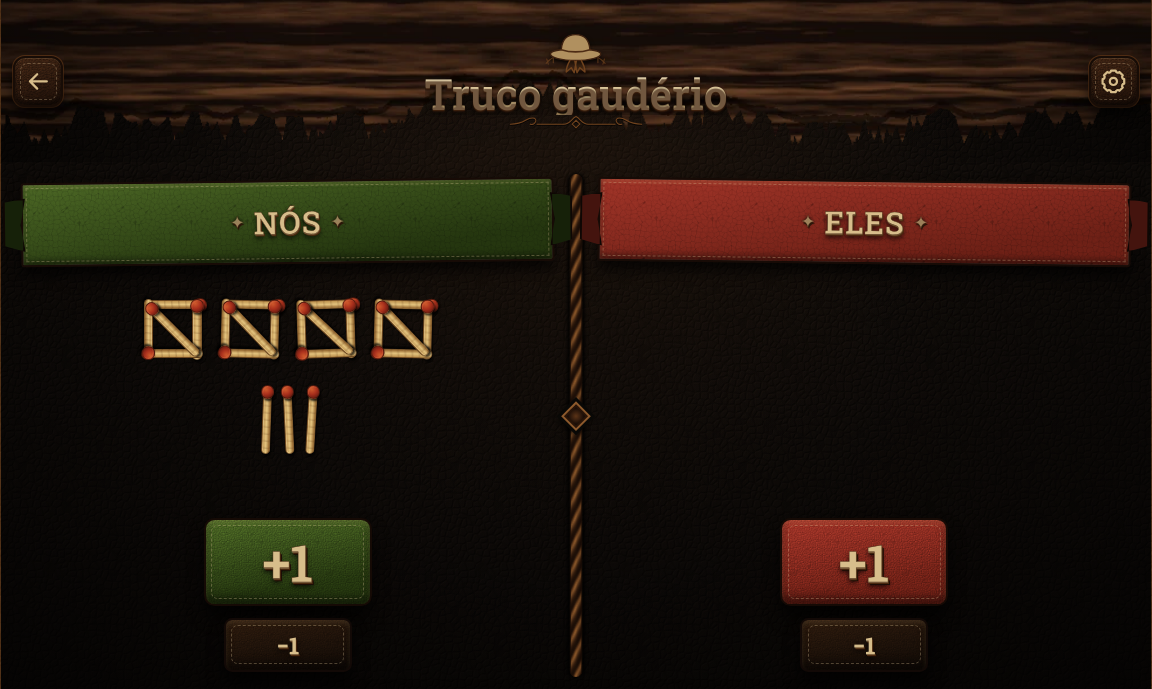
Test case: truco gaudério screens › disables both increments at 24 while keeping correction live and does not finish
The image size is (1152, 689).
Step 1. Click the button named "Adicionar 1 ponto para Nós" → (288, 562), box [204,518,372,606]
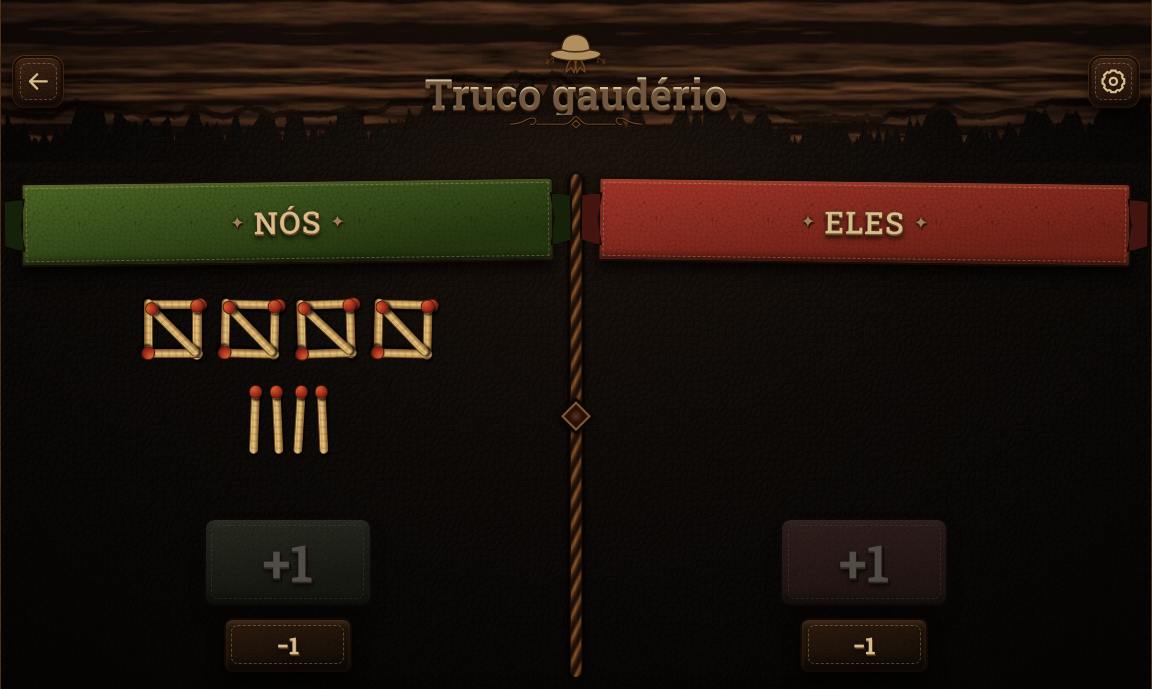
expect the element named "Nós: 24 pontos" is shown: met, box [144,298,434,454]
expect the button named "Adicionar 1 ponto para Nós" is disabled: met, box [204,518,372,606]
expect the button named "Adicionar 1 ponto para Eles" is disabled: met, box [780,518,948,606]
